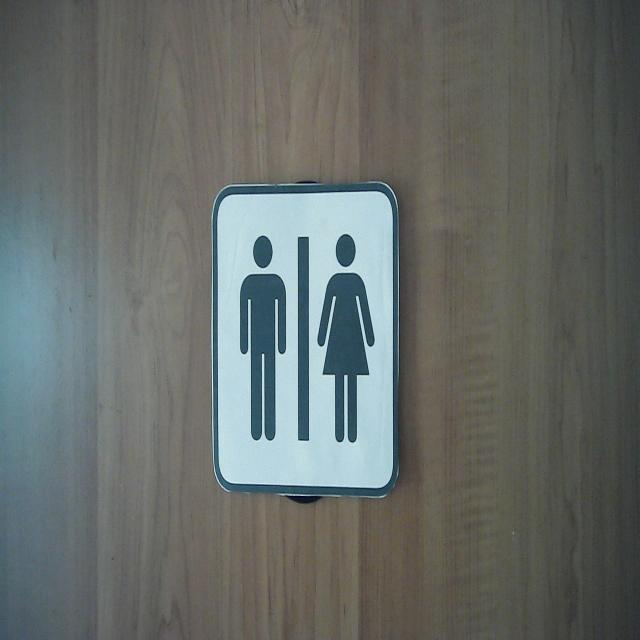restroom: (207, 177, 403, 502)
